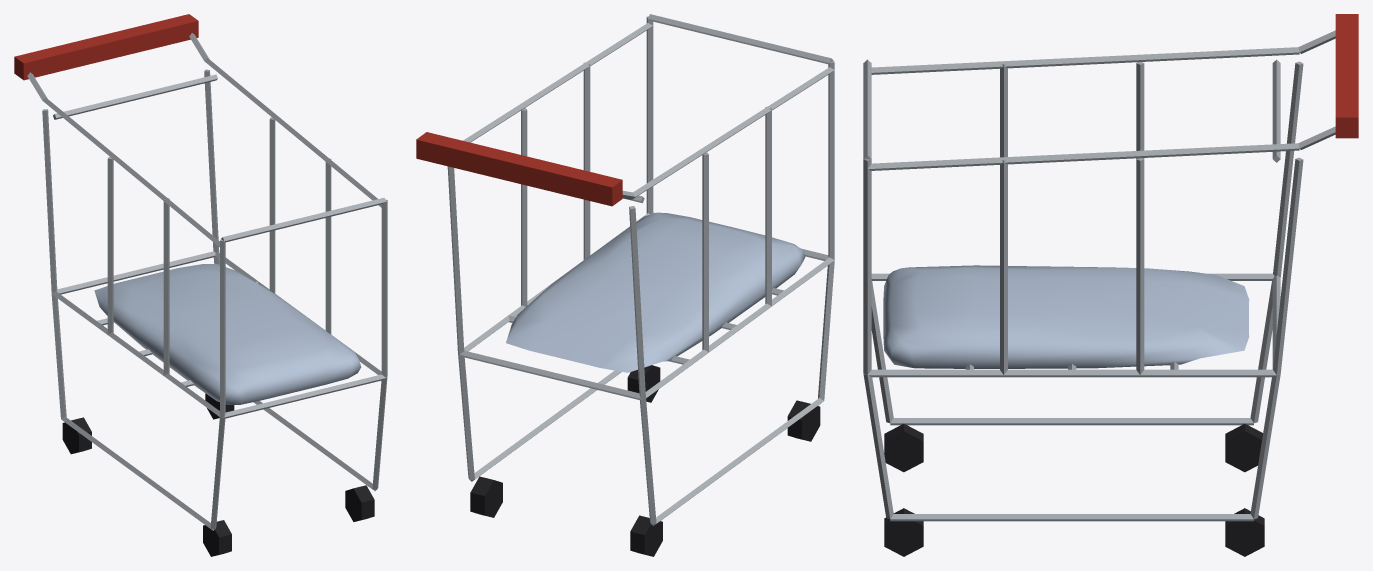
File: shopping_cart.glb
The picture shows the model from 3 angles, left to right: view 1: azimuth 30°, elevation 25°; view 2: azimuth 150°, elevation 25°; view 3: azimuth 270°, elevation 25°; orthographic projection. The views are drawn at different scales.
Parts seen in each view (by area): view 1: Prop; view 2: Prop; view 3: Prop.
Boxes of the visible parts, x1,y1,x2,y2 form: Prop: (14, 14, 387, 556); Prop: (416, 14, 834, 556); Prop: (863, 14, 1358, 556).
Bounding box in the file's own units: 0.54 × 1.08 × 1.09.
